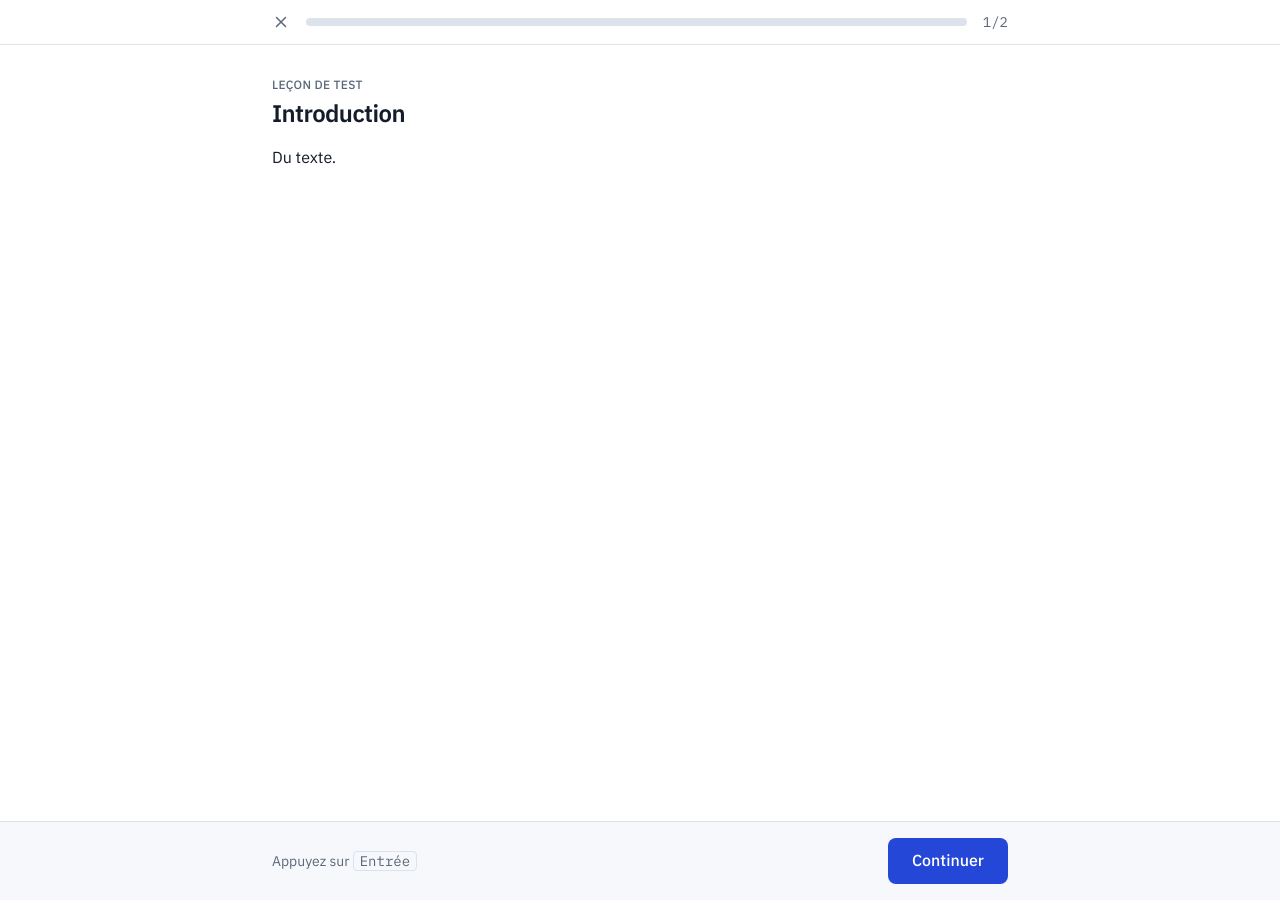
it: LessonPlayer › shows the server error and stays on the exercise when the answer is rejected
Expected: the heading "Introduction" is shown, [272,97,405,129]
Press Enter
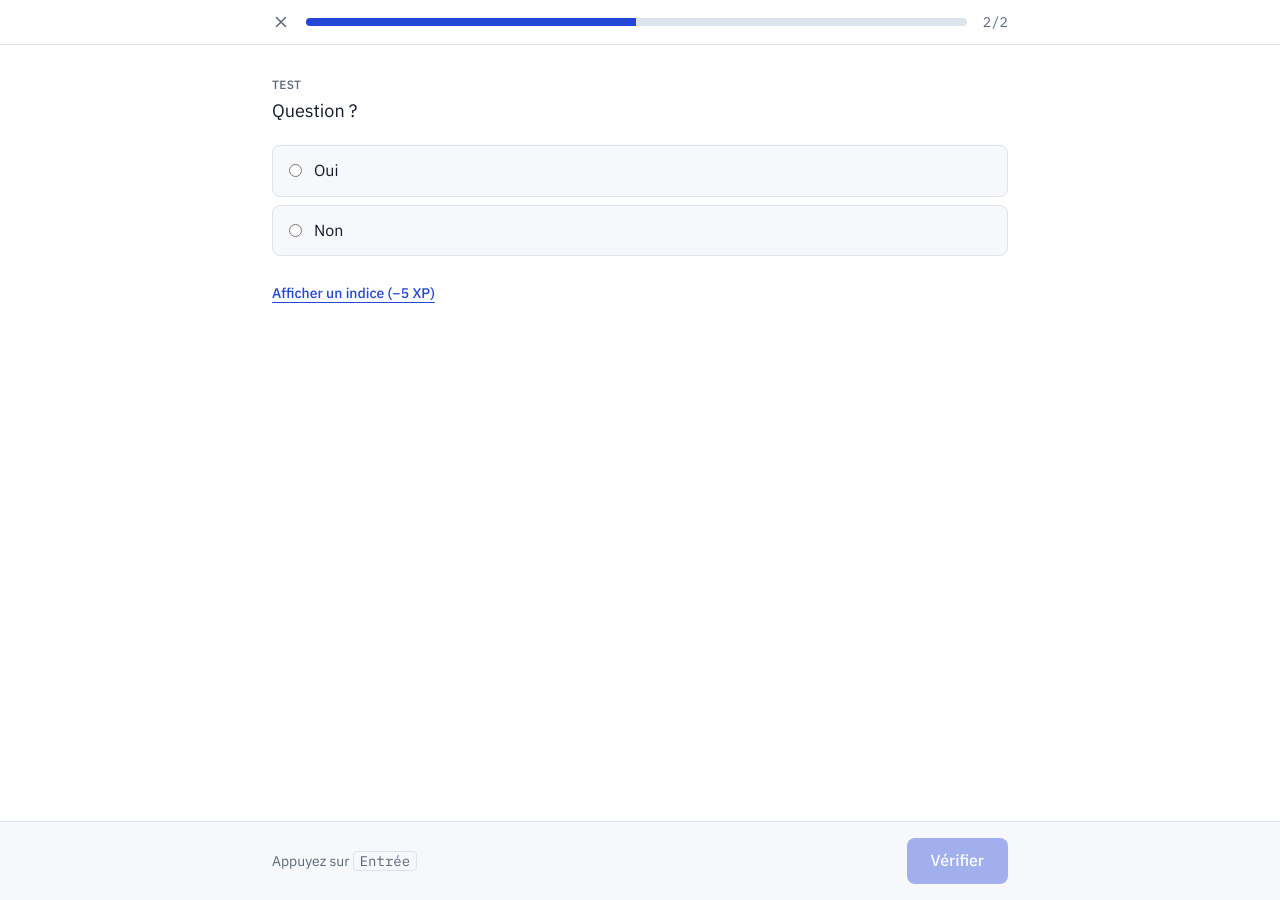
Click the radio button labelled "Oui".
click(296, 170)  # box [289,164,302,177]
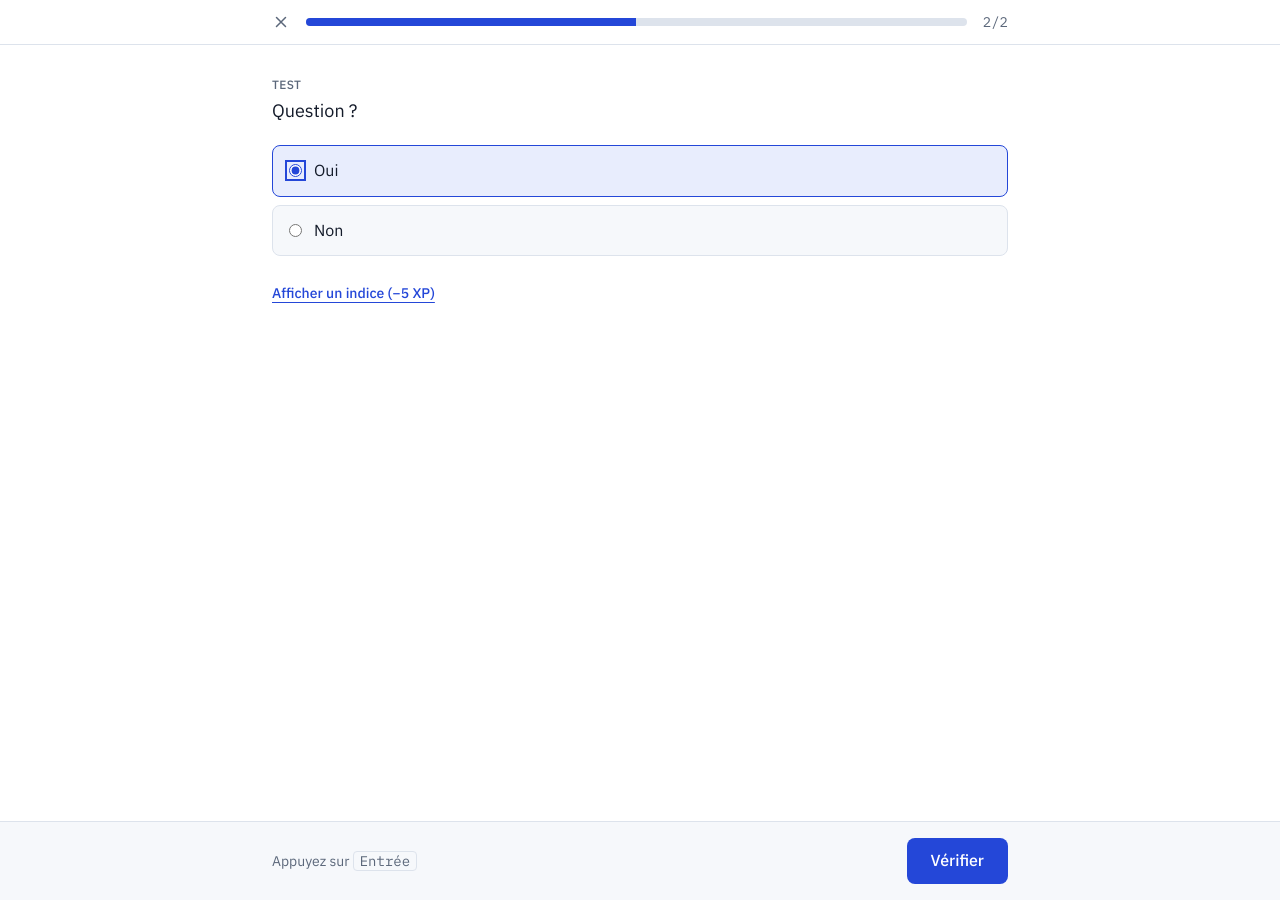
Press Enter
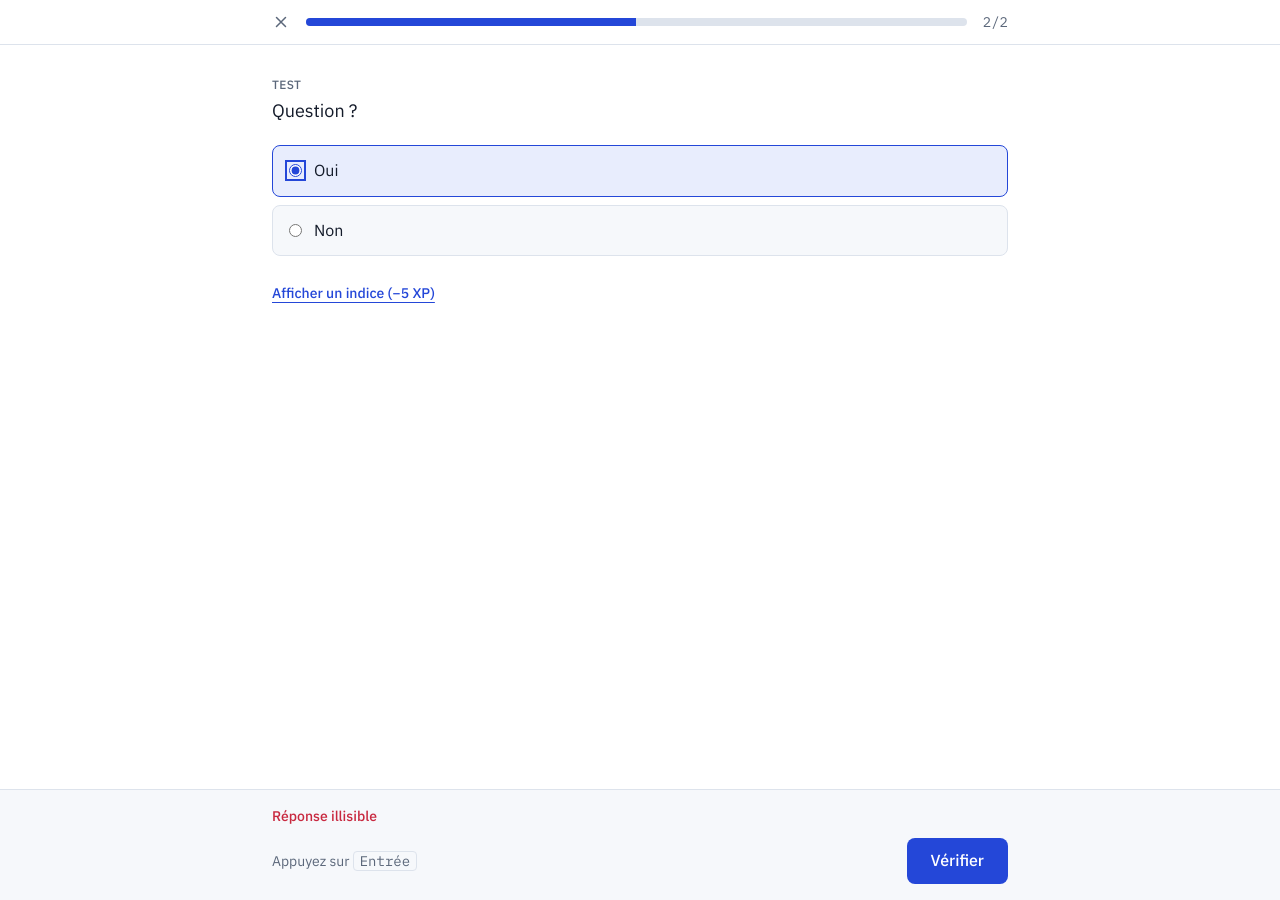
Expected: the button "Vérifier" is enabled, [907,838,1008,884]
Expected: the message reads "Réponse illisible", [272,807,377,825]
